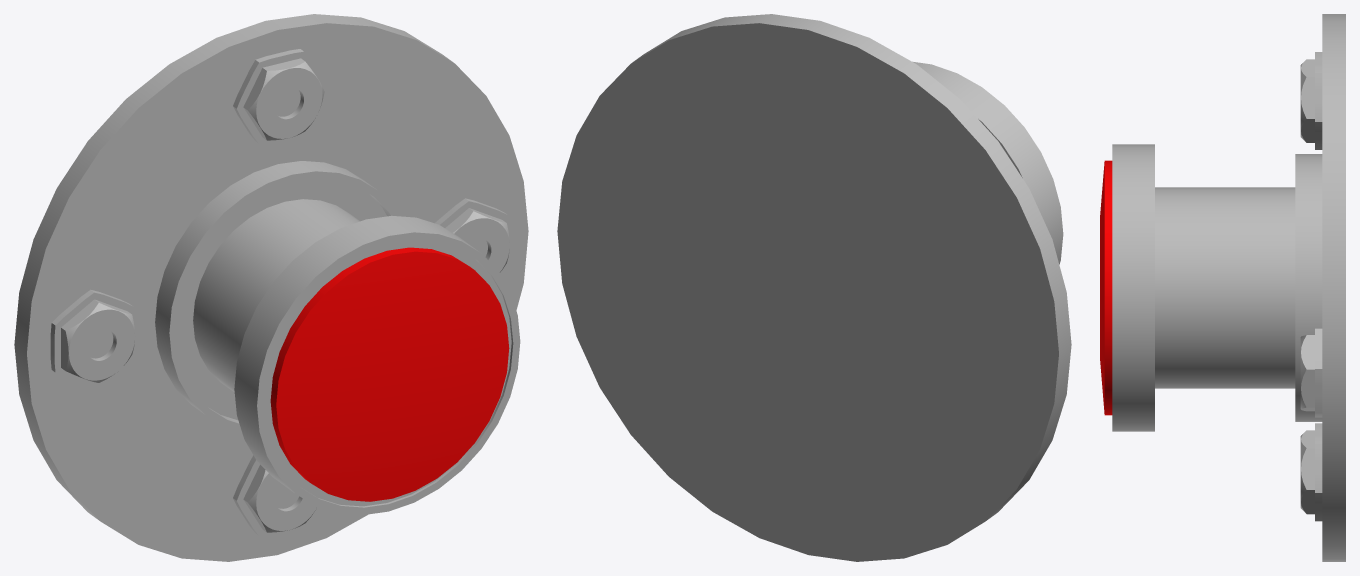
File: button_1.fbx
The picture shows the model from 3 angles, left to right: view 1: azimuth 30°, elevation 25°; view 2: azimuth 150°, elevation 25°; view 3: azimuth 270°, elevation 25°; orthographic projection. The views are drawn at different scales.
Parts seen in each view (by area): view 1: Stop_Button_02:Mesh; view 2: Stop_Button_02:Mesh; view 3: Stop_Button_02:Mesh.
Part boxes in pixels (<box>): Stop_Button_02:Mesh: <box>14,14,528,561</box>; Stop_Button_02:Mesh: <box>557,14,1071,561</box>; Stop_Button_02:Mesh: <box>1100,14,1345,561</box>.
Bounding box in the file's own units: 12.54 × 12.54 × 5.62.
